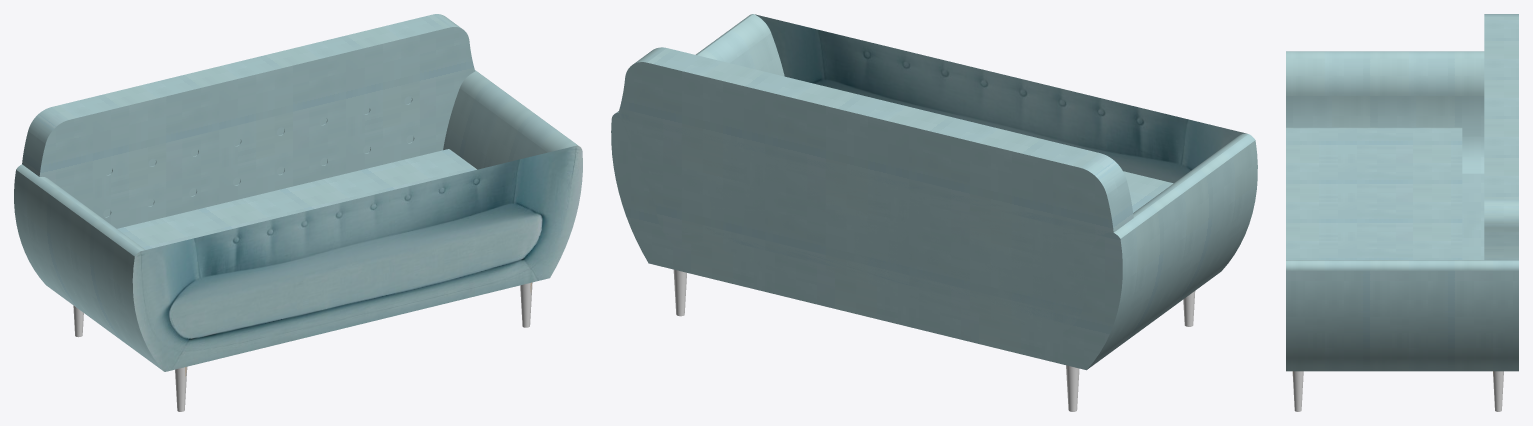
The model's file is Groupe_47.fbx.
The picture shows the model from 3 angles, left to right: view 1: azimuth 30°, elevation 25°; view 2: azimuth 150°, elevation 25°; view 3: azimuth 270°, elevation 25°; orthographic projection. The views are drawn at different scales.
Visible parts, largest first — view 1: Group6, Group4, Group5; view 2: Group6, Group4, Group5; view 3: Group6, Group5, Group4, Group7, Group2.
Boxes of the visible parts, x1,y1,x2,y2 form: Group6: (14,70,582,371); Group4: (22,14,475,228); Group5: (117,149,541,338); Group6: (611,14,1257,370); Group4: (618,47,1133,333); Group5: (1123,171,1173,212); Group6: (1286,51,1518,371); Group5: (1286,127,1462,259); Group4: (1484,14,1518,260); Group7: (1292,371,1303,411); Group2: (1493,371,1503,411).
Bounding box in the file's own units: 161 × 76.93 × 73.6.
